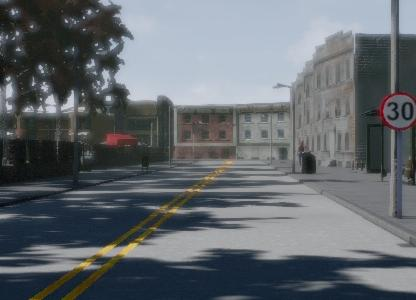Speed_30: (378, 88, 416, 135)
